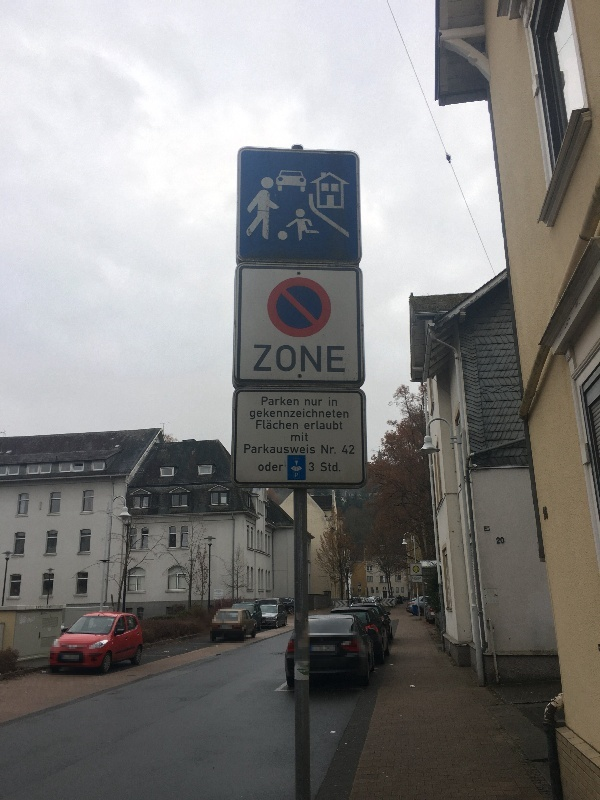text: (257, 345, 272, 373), (273, 345, 288, 373), (289, 345, 304, 373), (305, 345, 320, 373), (321, 345, 336, 373), (337, 345, 345, 373), (257, 409, 272, 421), (273, 409, 288, 421), (289, 409, 304, 421), (305, 409, 320, 421), (321, 409, 336, 421), (321, 462, 336, 474), (273, 396, 288, 407), (257, 419, 272, 430), (273, 419, 288, 430), (305, 420, 320, 431), (321, 420, 336, 431), (257, 444, 272, 455), (273, 444, 288, 455), (289, 444, 304, 455), (337, 409, 349, 421), (322, 445, 336, 455), (291, 433, 304, 443), (259, 462, 272, 472), (289, 396, 300, 407), (245, 444, 256, 455), (305, 444, 316, 455), (309, 462, 320, 473), (305, 399, 320, 407), (273, 462, 285, 472), (262, 396, 272, 407), (289, 419, 299, 430), (345, 444, 352, 455), (250, 409, 256, 421), (337, 420, 343, 431), (329, 398, 336, 407), (497, 538, 505, 545), (485, 526, 496, 531), (295, 473, 304, 479), (337, 462, 341, 474), (305, 433, 309, 443), (353, 444, 356, 455), (255, 345, 256, 373), (321, 399, 324, 407), (417, 576, 422, 579), (337, 398, 338, 407), (413, 576, 416, 579), (415, 567, 416, 572), (417, 567, 418, 572)
